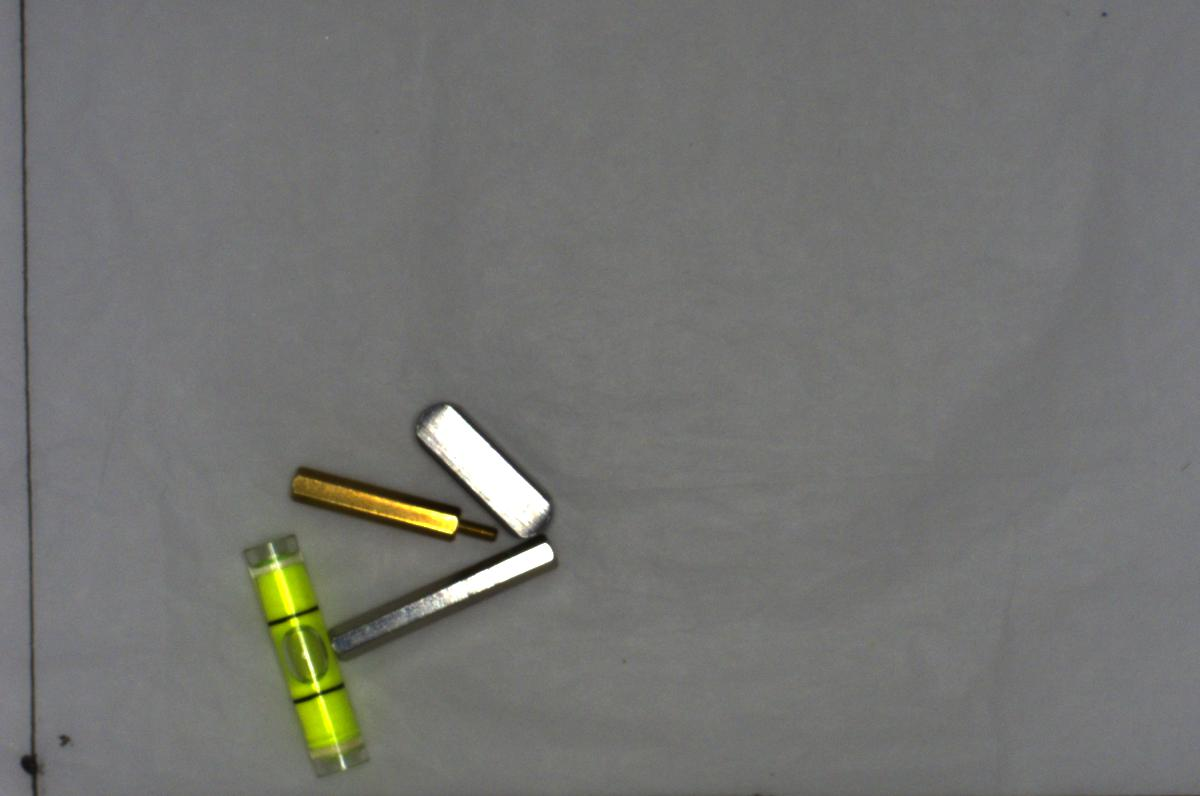Double hexagonal column: (330, 539, 568, 661)
Hexagon pillar: (287, 463, 510, 548)
Horizontal bubble: (242, 528, 371, 781)
Keybar: (412, 401, 560, 535)
